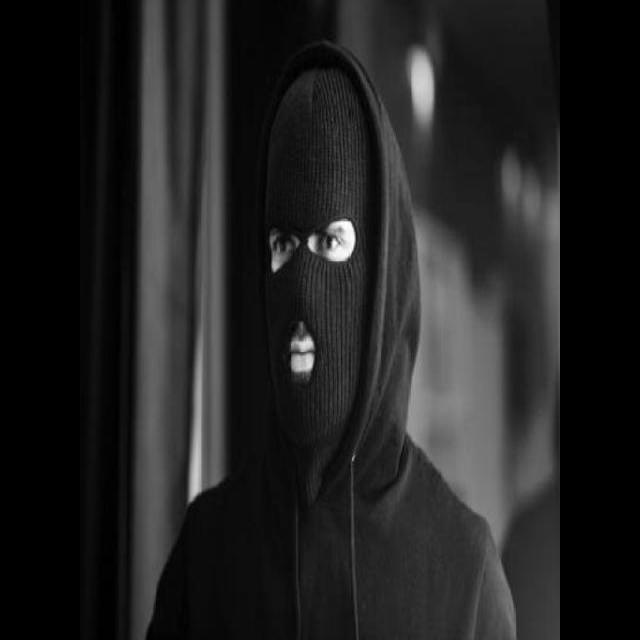6_pasamontana: (263, 68, 379, 448)
